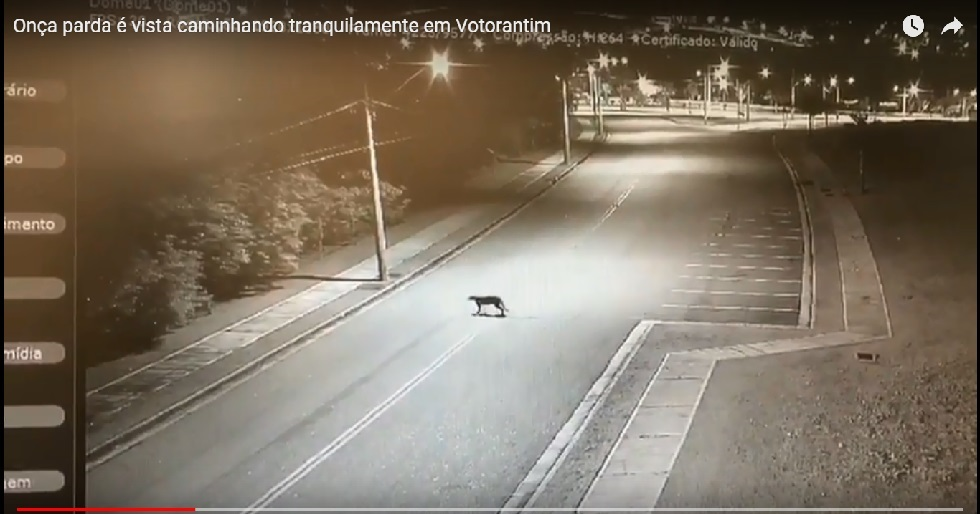OncaParda: (453, 289, 512, 323)
